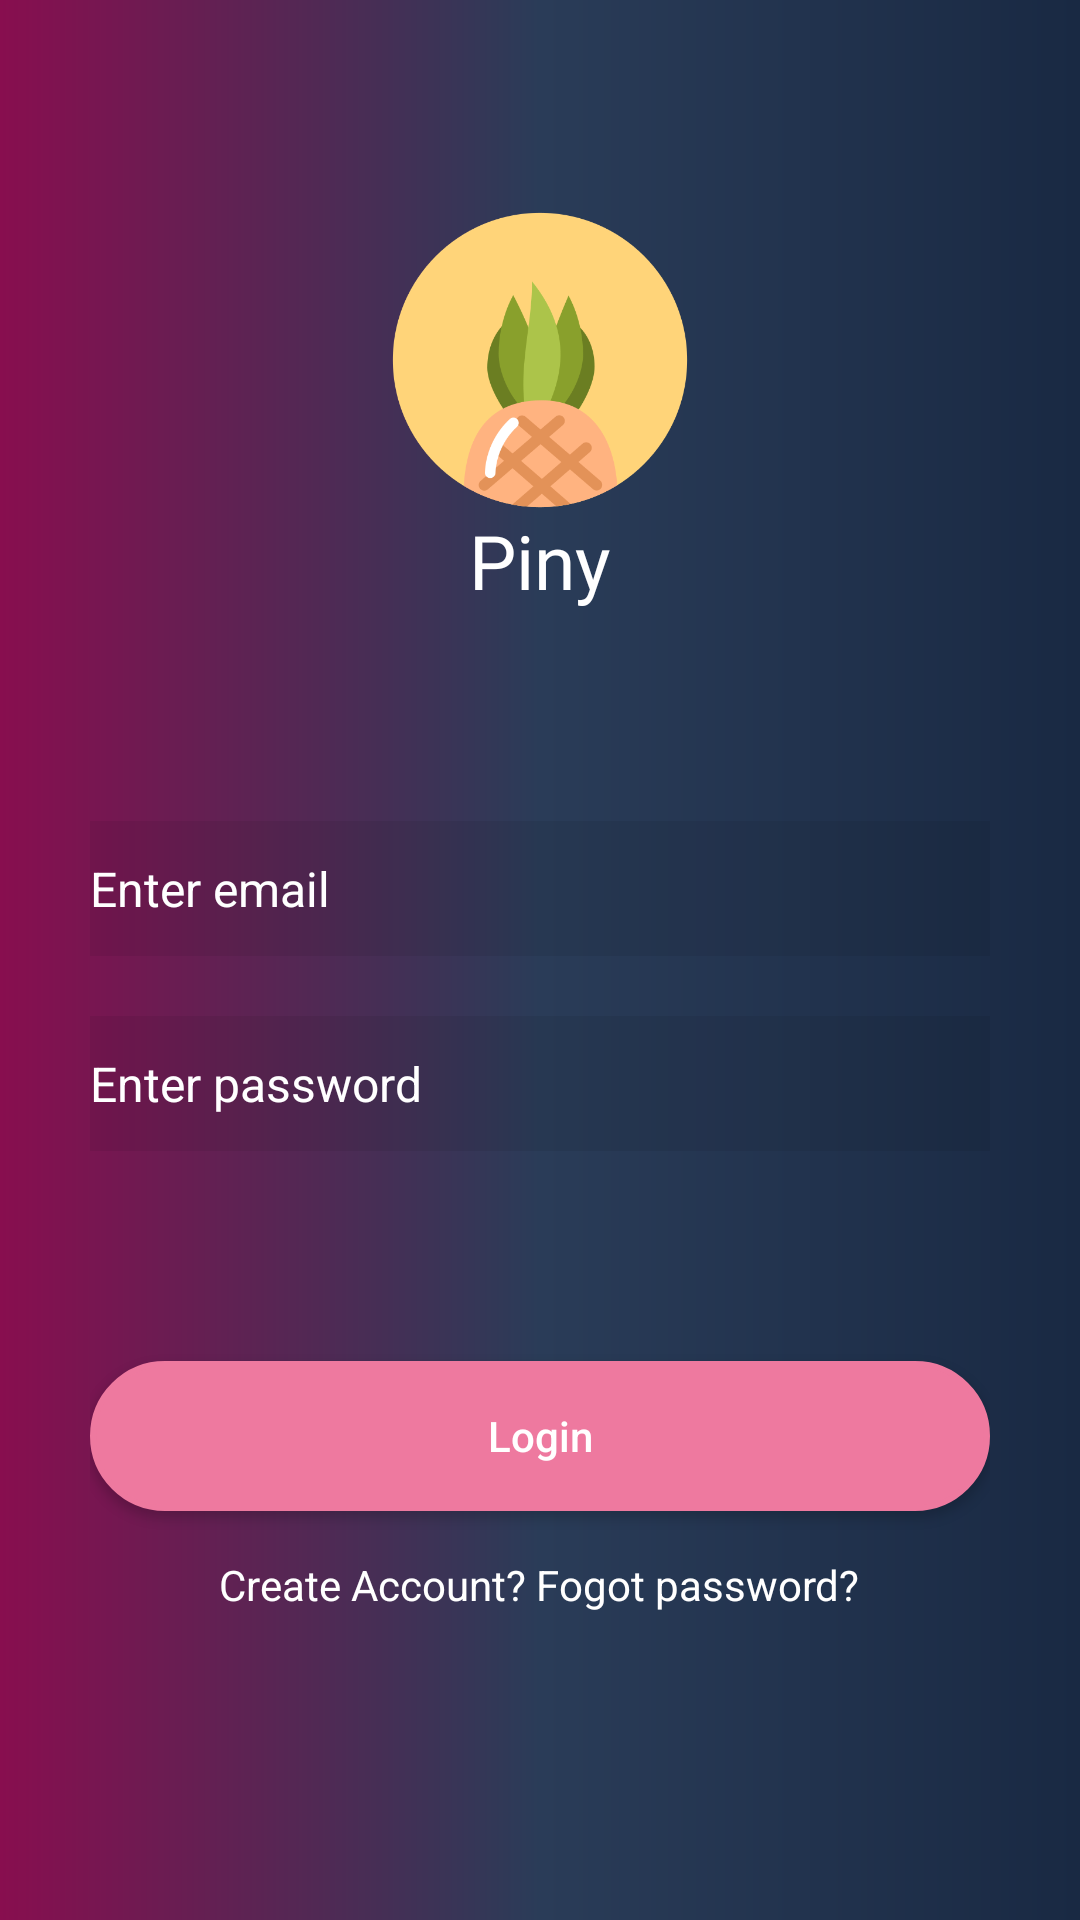

Named icons in this screenshot (1080 x 1920) and their bounding boxes, box=[x1, y1, x2, y2]:
pineapples: box=[390, 210, 687, 510]
